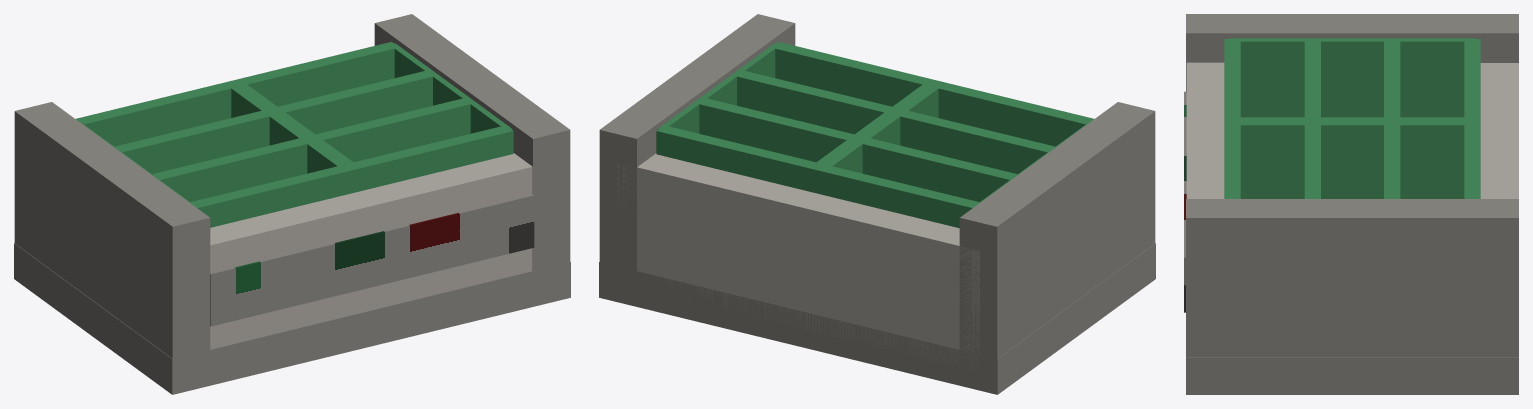
The model's file is CMU3DRMCVialBoxFullMedicalSmallCloudEmptyStudy.glb.
The picture shows the model from 3 angles, left to right: view 1: azimuth 30°, elevation 25°; view 2: azimuth 150°, elevation 25°; view 3: azimuth 270°, elevation 25°; orthographic projection. The views are drawn at different scales.
Parts seen in each view (by area): view 1: left side shell, front labeled rim, bottom storage shell, original vial box lower control markings, right side shell, green insert cross divider -0.041, green insert cross divider 0.124, green insert cross divider 0.041, green insert cross divider -0.124, green insert longitudinal divider 0, green insert longitudinal divider 0.205; view 2: rear shell, left side shell, bottom storage shell, right side shell, green insert cross divider 0.041, green insert cross divider -0.124, green insert cross divider -0.041, green insert cross divider 0.124, green insert longitudinal divider 0, green insert longitudinal divider 0.205; view 3: right side shell, green insert longitudinal divider 0, green insert longitudinal divider -0.205, bottom storage shell, left side shell, front labeled rim, rear shell, green insert cross divider 0.124, green insert cross divider -0.124, green insert cross divider 0.041, green insert cross divider -0.041, original vial box lower control markings.
Boxes of the visible parts, bbox=[...] form: left side shell: bbox=[14, 102, 210, 374]; front labeled rim: bbox=[210, 153, 532, 349]; bottom storage shell: bbox=[14, 243, 570, 394]; original vial box lower control markings: bbox=[210, 194, 534, 326]; right side shell: bbox=[374, 14, 570, 288]; green insert cross divider -0.041: bbox=[152, 97, 474, 202]; green insert cross divider 0.124: bbox=[76, 41, 398, 146]; green insert cross divider 0.041: bbox=[115, 71, 432, 174]; green insert cross divider -0.124: bbox=[190, 125, 513, 227]; green insert longitudinal divider 0: bbox=[231, 81, 358, 173]; green insert longitudinal divider 0.205: bbox=[390, 43, 512, 133]; rear shell: bbox=[616, 153, 979, 370]; left side shell: bbox=[959, 102, 1155, 375]; bottom storage shell: bbox=[599, 243, 1155, 394]; right side shell: bbox=[599, 14, 795, 288]; green insert cross divider 0.041: bbox=[695, 97, 1018, 202]; green insert cross divider -0.124: bbox=[771, 41, 1093, 146]; green insert cross divider -0.041: bbox=[733, 71, 1054, 174]; green insert cross divider 0.124: bbox=[656, 125, 979, 228]; green insert longitudinal divider 0: bbox=[811, 81, 938, 173]; green insert longitudinal divider 0.205: bbox=[657, 43, 779, 133]; right side shell: bbox=[1186, 199, 1518, 356]; green insert longitudinal divider 0: bbox=[1229, 117, 1475, 198]; green insert longitudinal divider -0.205: bbox=[1229, 38, 1475, 117]; bottom storage shell: bbox=[1186, 357, 1518, 394]; left side shell: bbox=[1186, 14, 1518, 91]; front labeled rim: bbox=[1186, 62, 1224, 198]; rear shell: bbox=[1480, 63, 1518, 198]; green insert cross divider 0.124: bbox=[1464, 39, 1480, 198]; green insert cross divider -0.124: bbox=[1224, 39, 1240, 198]; green insert cross divider 0.041: bbox=[1384, 40, 1400, 198]; green insert cross divider -0.041: bbox=[1304, 40, 1320, 198]; original vial box lower control markings: bbox=[1184, 91, 1186, 312].
Bounding box in the file's own units: 0.5 × 0.2015 × 0.346.
Materials: 4 (1 with a texture image).
